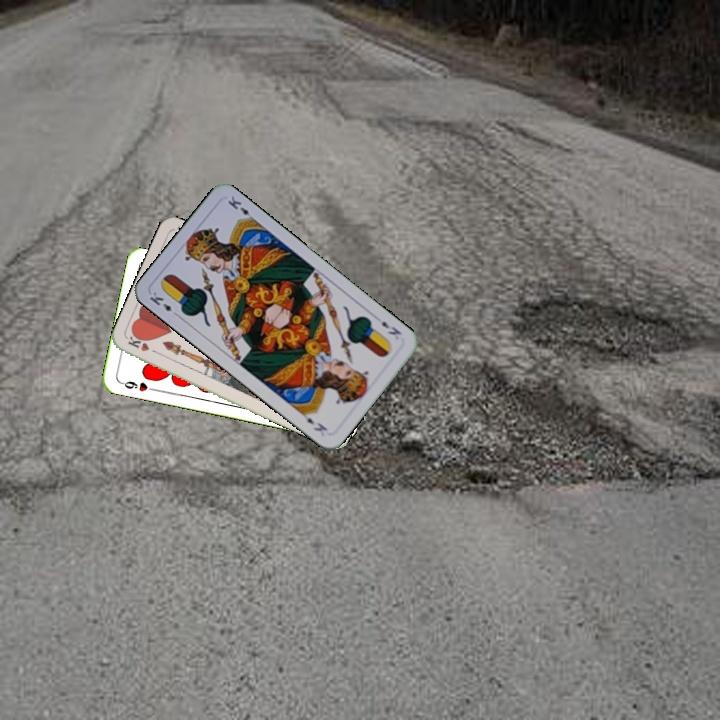EK: (146, 287, 182, 320), (378, 317, 404, 338)
H9: (116, 377, 156, 394)
HK: (123, 333, 163, 357)
